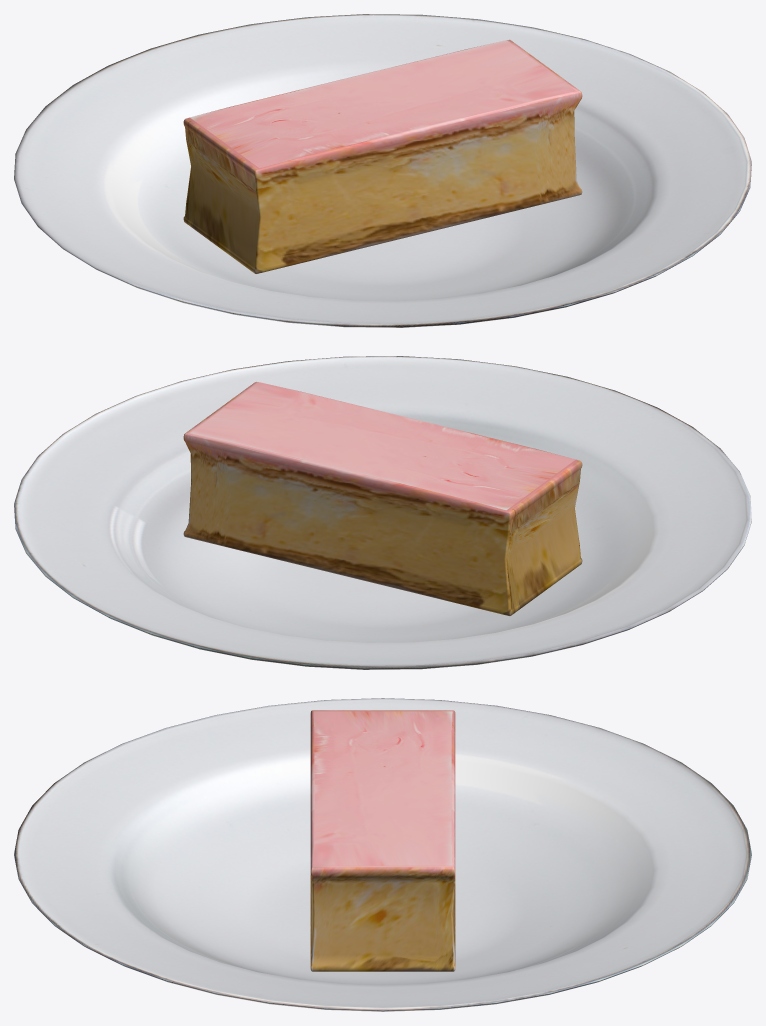
Rendered from tompouce.fbx.
3 renders of one model, top to bottom at view 1: azimuth 30°, elevation 25°; view 2: azimuth 150°, elevation 25°; view 3: azimuth 270°, elevation 25°, orthographic.
Visible parts, largest first — view 1: polySurface3; view 2: polySurface3; view 3: polySurface3.
Boxes of the visible parts, x1,y1,x2,y2 form: polySurface3: [14, 14, 751, 327]; polySurface3: [14, 356, 751, 669]; polySurface3: [14, 698, 751, 1011].
Size of the model in its own units: 18.3 by 3.56 by 18.3.
